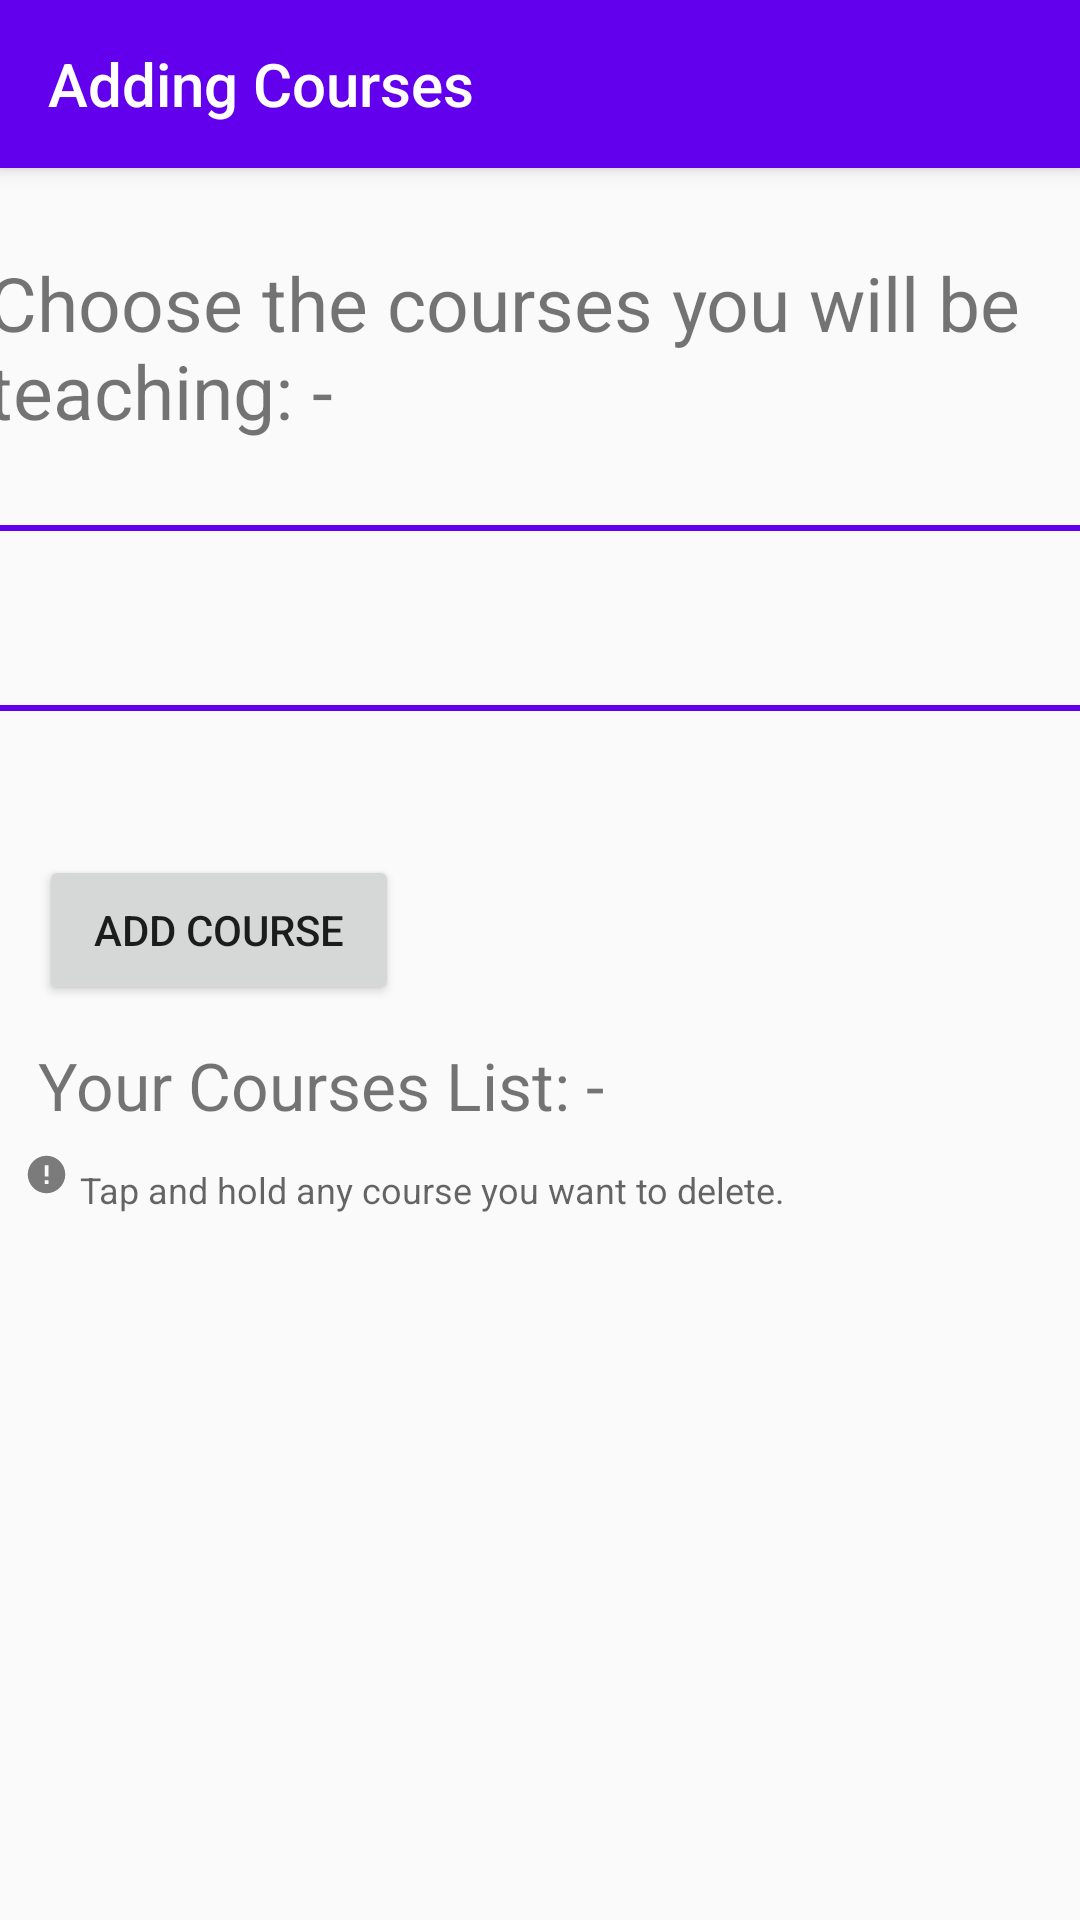

Icon bounding boxes for this 1080px x 1920px phone screenshot, format {"left": x1, "top": y1, "right": x2, "bottom": y2}:
error: {"left": 27, "top": 1155, "right": 66, "bottom": 1194}
